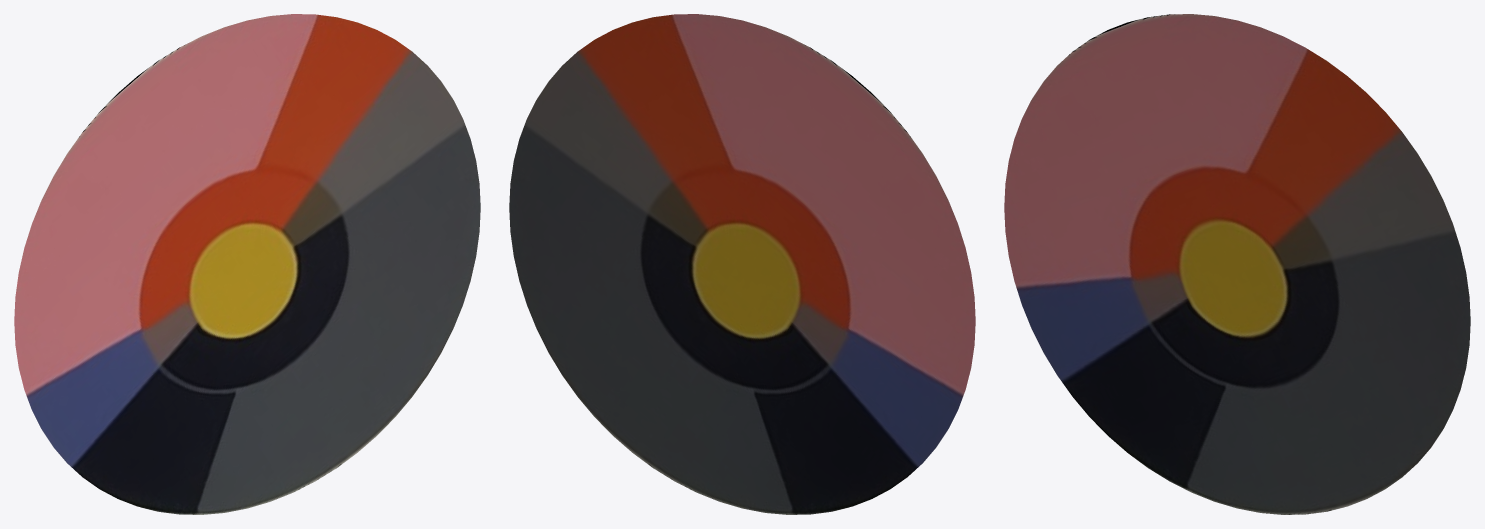
File: disc.glb
3 renders of one model, left to right at view 1: azimuth 30°, elevation 25°; view 2: azimuth 150°, elevation 25°; view 3: azimuth 330°, elevation 25°, orthographic.
Parts seen in each view (by area): view 1: disc; view 2: disc; view 3: disc.
Part boxes in pixels (<box>): disc: <box>14,14,480,514</box>; disc: <box>509,14,975,514</box>; disc: <box>1004,14,1470,514</box>.
Size of the model in its own units: 8.48 by 8.48 by 3.71e-07.
1 material, 1 textured.
